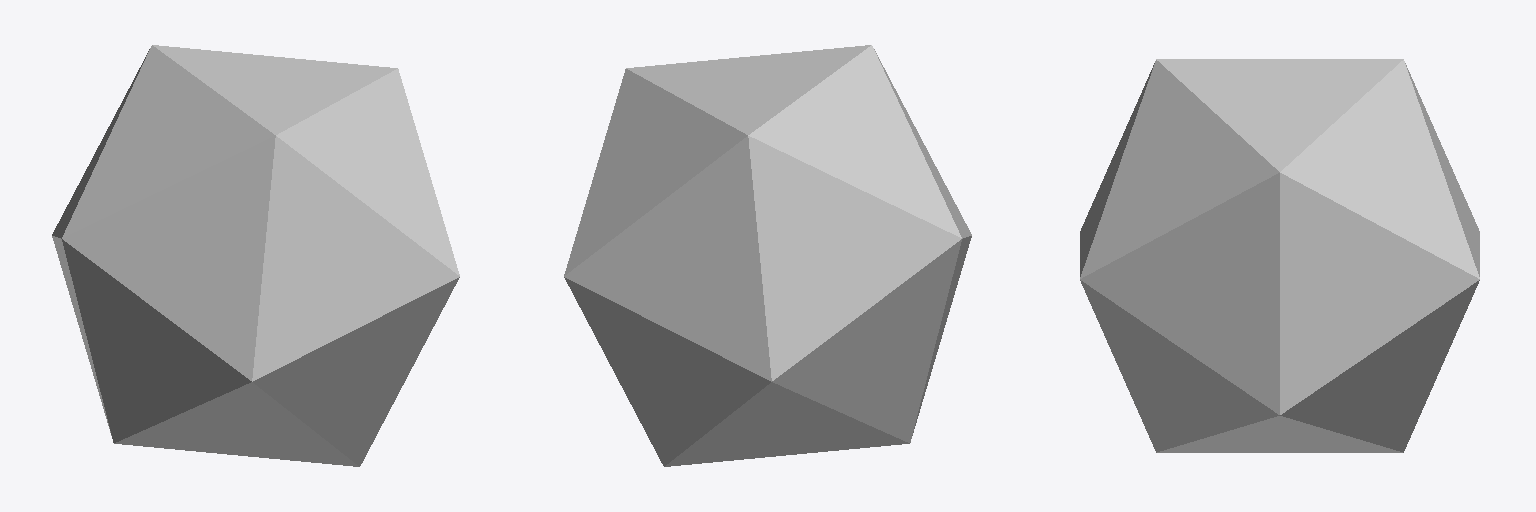
Rendered from polyhedron_red.obj.
3 views of the same model, side by side, from view 1: azimuth 30°, elevation 25°; view 2: azimuth 150°, elevation 25°; view 3: azimuth 270°, elevation 25° (orthographic).
Visible parts, largest first — view 1: 000_Polyhedron; view 2: 000_Polyhedron; view 3: 000_Polyhedron.
Part boxes in pixels (bbox=[...]): 000_Polyhedron: bbox=[52, 45, 459, 466]; 000_Polyhedron: bbox=[564, 45, 971, 466]; 000_Polyhedron: bbox=[1080, 59, 1479, 452].
Bounding box in the file's own units: 95.29 × 82.52 × 85.06.